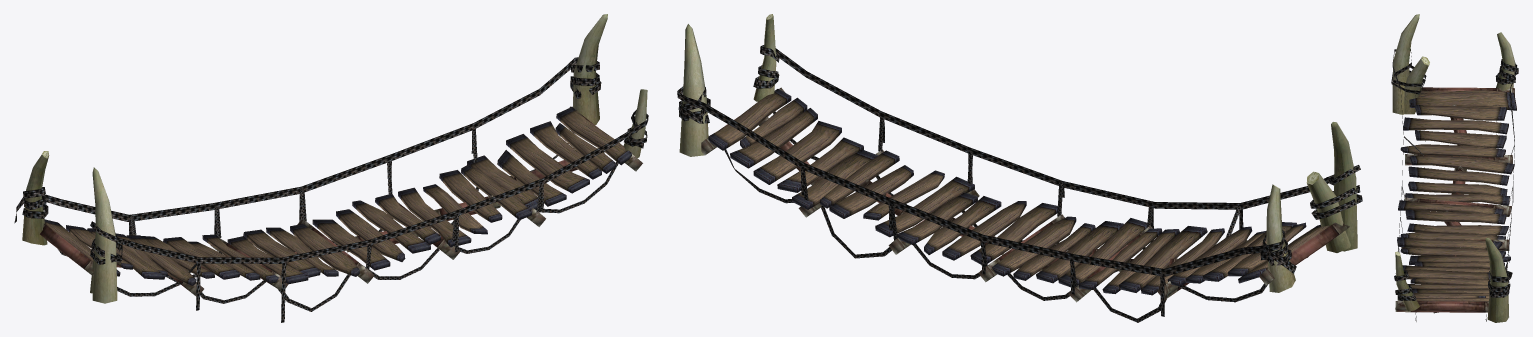
File: environment_Building_qiaoliang_002_a.FBX
The picture shows the model from 3 angles, left to right: view 1: azimuth 30°, elevation 25°; view 2: azimuth 150°, elevation 25°; view 3: azimuth 270°, elevation 25°; orthographic projection. The views are drawn at different scales.
Visible parts, largest first — view 1: environment_Building_qiaoliang_002_a, environment_Building_qiaoliang_002_b; view 2: environment_Building_qiaoliang_002_a, environment_Building_qiaoliang_002_b; view 3: environment_Building_qiaoliang_002_a, environment_Building_qiaoliang_002_b.
Boxes of the visible parts, x1,y1,x2,y2 form: environment_Building_qiaoliang_002_a: (22, 14, 647, 303); environment_Building_qiaoliang_002_b: (14, 57, 648, 322); environment_Building_qiaoliang_002_a: (679, 14, 1357, 302); environment_Building_qiaoliang_002_b: (677, 45, 1362, 322); environment_Building_qiaoliang_002_a: (1392, 14, 1516, 322); environment_Building_qiaoliang_002_b: (1391, 49, 1518, 321).
Bounding box in the file's own units: 1871 × 616 × 452.
